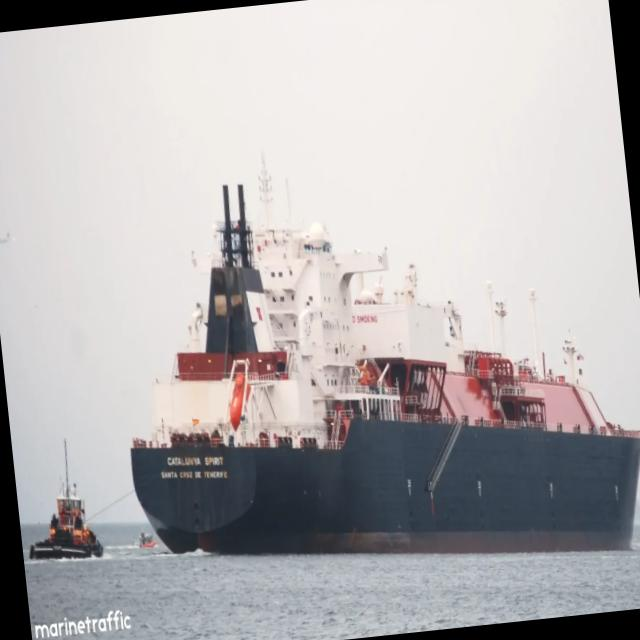Tanker: (130, 185, 640, 553)
Tug: (29, 485, 102, 558)
